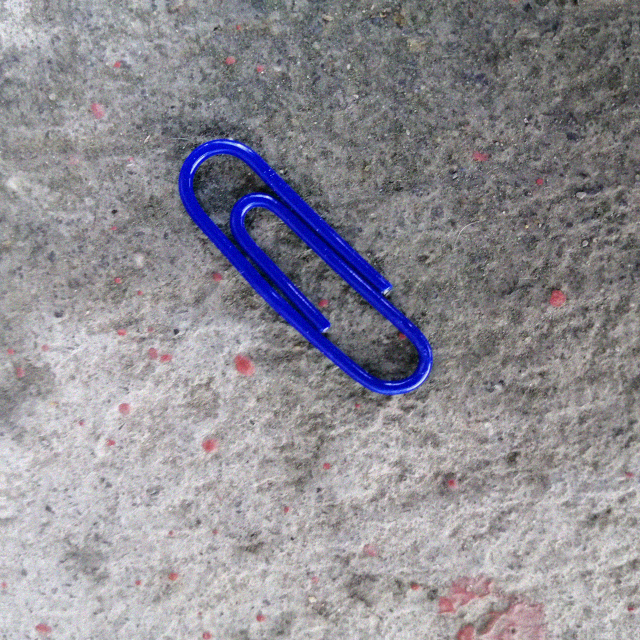pin: (182, 126, 427, 400)
